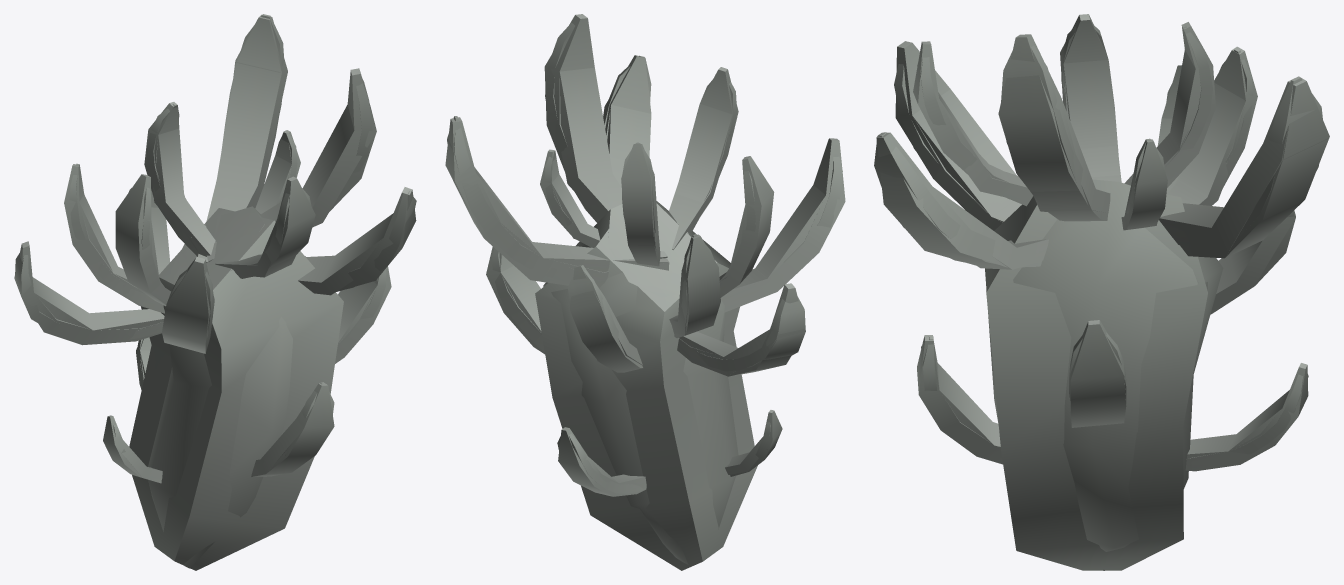
Rendered from Env_plant02_LOD_Mesh.fbx.
3 renders of one model, left to right at view 1: azimuth 30°, elevation 25°; view 2: azimuth 150°, elevation 25°; view 3: azimuth 270°, elevation 25°, orthographic. The views are drawn at different scales.
Visible parts, largest first — view 1: Env_plant02_LOD3_Mesh, Env_plant02_LOD2_Mesh, Env_plant02_LOD1_Mesh; view 2: Env_plant02_LOD3_Mesh, Env_plant02_LOD2_Mesh, Env_plant02_LOD1_Mesh; view 3: Env_plant02_LOD3_Mesh, Env_plant02_LOD2_Mesh, Env_plant02_LOD1_Mesh.
Part boxes in pixels (x1,y1,x2,y2): Env_plant02_LOD3_Mesh: (32, 17, 393, 570); Env_plant02_LOD2_Mesh: (14, 14, 416, 568); Env_plant02_LOD1_Mesh: (15, 14, 416, 567); Env_plant02_LOD3_Mesh: (446, 67, 825, 570); Env_plant02_LOD2_Mesh: (445, 14, 845, 564); Env_plant02_LOD1_Mesh: (447, 22, 842, 563); Env_plant02_LOD3_Mesh: (912, 50, 1327, 570); Env_plant02_LOD2_Mesh: (876, 14, 1329, 570); Env_plant02_LOD1_Mesh: (874, 24, 1322, 551).
Bounding box in the file's own units: 85.78 × 120 × 79.45.
